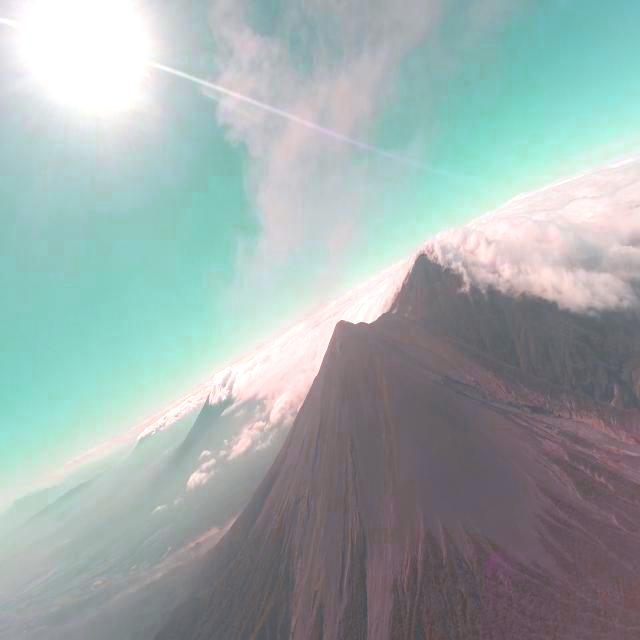Plume: (205, 2, 476, 282)
Summit: (329, 315, 368, 341)
